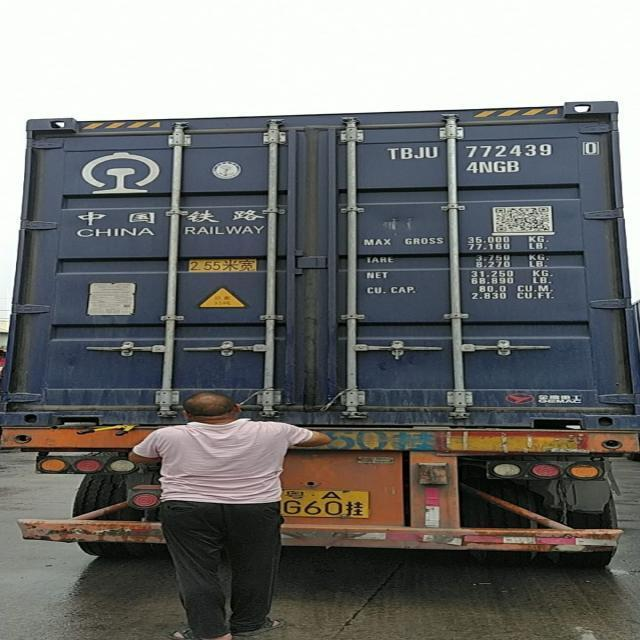ISO: (468, 161, 530, 173)
container_number: (384, 142, 602, 158)
